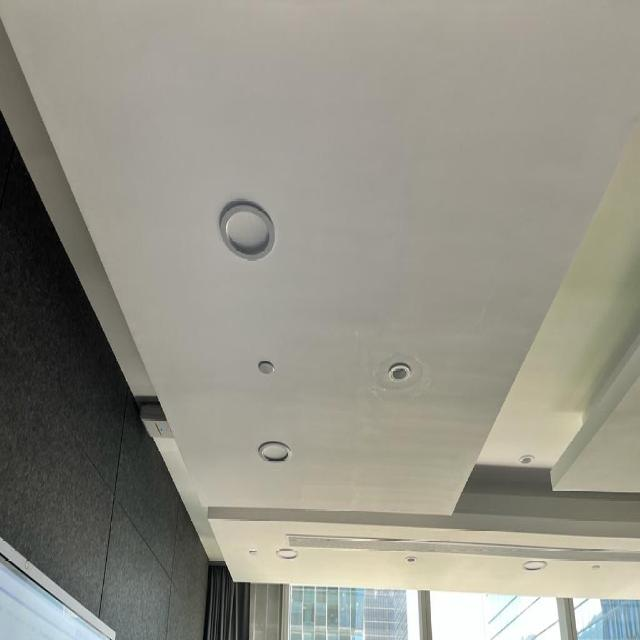Light-Closed: (218, 196, 279, 264), (384, 355, 417, 390), (254, 435, 294, 462), (520, 554, 551, 576), (518, 447, 539, 473), (272, 546, 300, 563), (588, 557, 606, 576), (404, 549, 419, 566), (247, 544, 260, 561)
